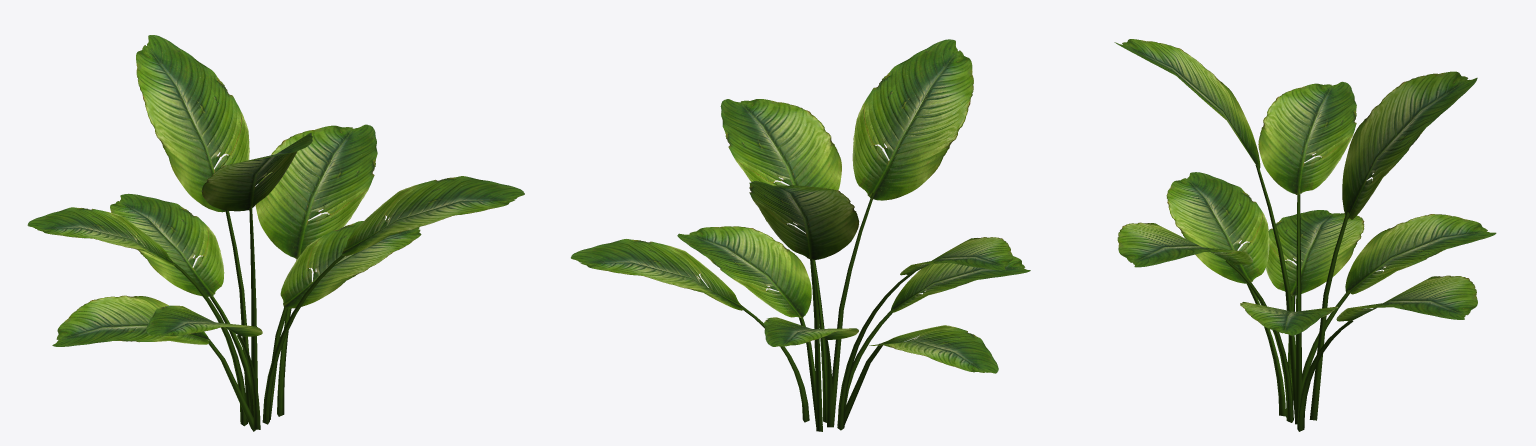
The model's file is alocasia4.FBX.
3 views of the same model, side by side, from view 1: azimuth 30°, elevation 25°; view 2: azimuth 150°, elevation 25°; view 3: azimuth 270°, elevation 25° (orthographic). The views are drawn at different scales.
Parts seen in each view (by area): view 1: alocasia4; view 2: alocasia4; view 3: alocasia4.
Boxes of the visible parts, x1=… form: alocasia4: x1=27, y1=35, x2=524, y2=431; alocasia4: x1=570, y1=39, x2=1030, y2=431; alocasia4: x1=1114, y1=39, x2=1496, y2=431.
Size of the model in its own units: 35.89 by 28.55 by 30.82.
